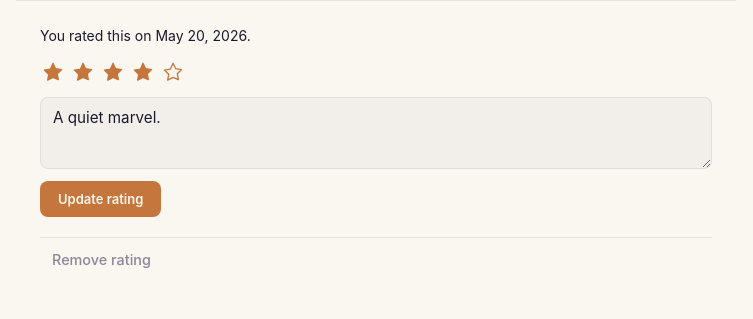
Test: RatingControl — AC-6: optimistic update, reconcile, honest rollback › on success, shows a quiet in-place confirmation (role=status), not an alarmist warning
Click the button named "rate 5 of 5". click: (173, 72)
box: 160,59 -> 186,85
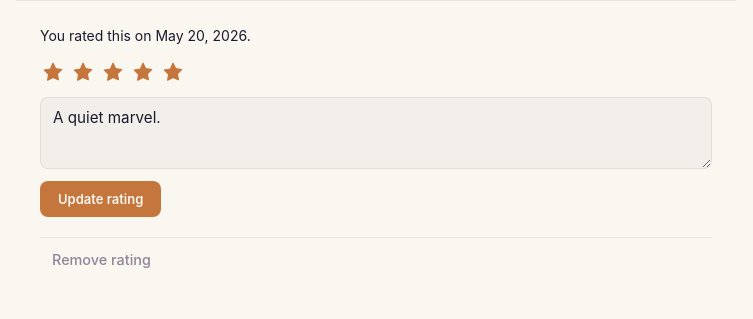
Click the button "Update rating". click: (101, 199)
box: 40,181 -> 161,217
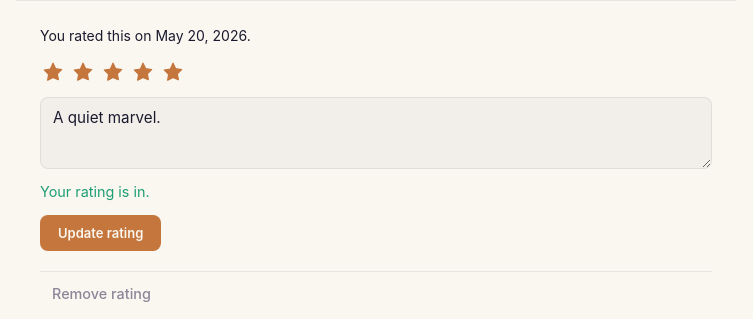
Check: the message "Your rating is in." is shown, box 40,183 -> 150,200
